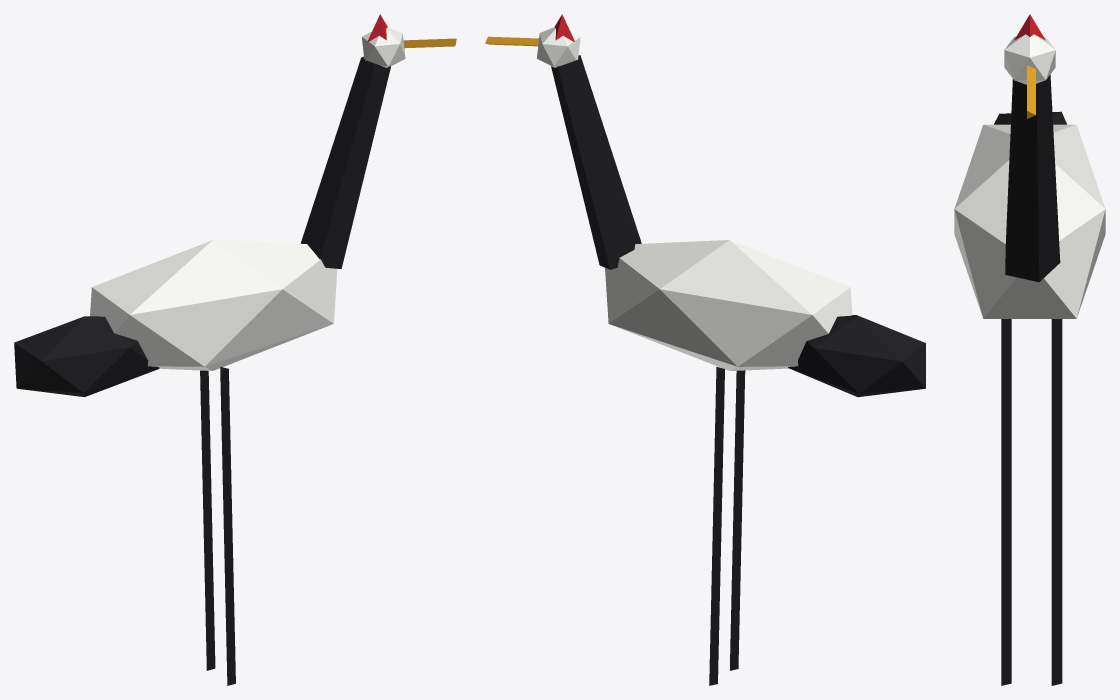
The model's file is trana.glb.
3 views of the same model, side by side, from view 1: azimuth 30°, elevation 25°; view 2: azimuth 150°, elevation 25°; view 3: azimuth 270°, elevation 25° (orthographic). The views are drawn at different scales.
Visible parts, largest first — view 1: trana; view 2: trana; view 3: trana.
Part boxes in pixels (box(x1,y1,x2,y2)): trana: box(14, 14, 456, 685); trana: box(485, 14, 925, 685); trana: box(954, 14, 1105, 685).
Size of the model in its own units: 1.23 by 1.67 by 0.2994.
